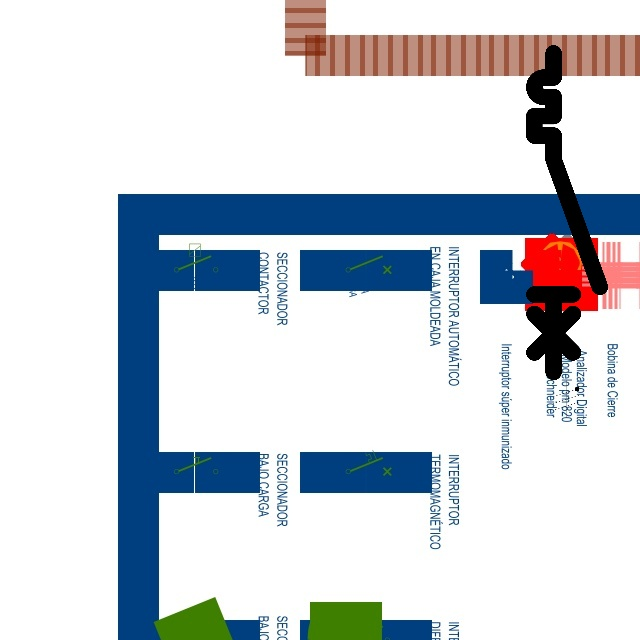interruptor_termomagnetico: (526, 45, 608, 380)
